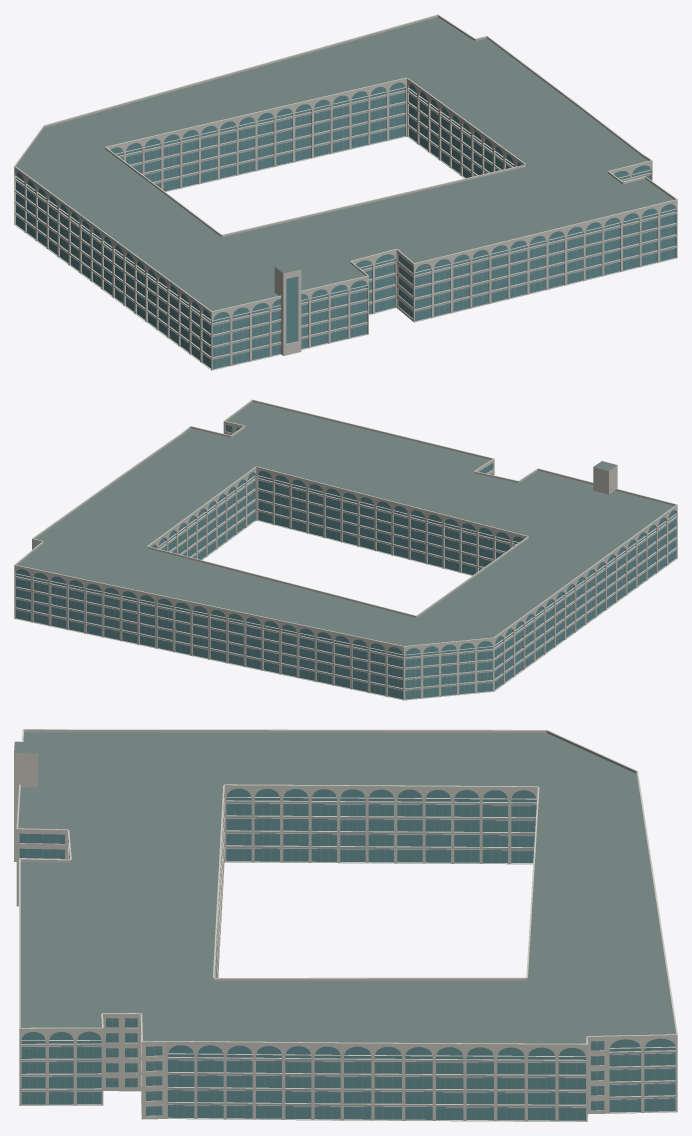
3 views of the same model, one above another, from view 1: azimuth 30°, elevation 25°; view 2: azimuth 150°, elevation 25°; view 3: azimuth 270°, elevation 25° (orthographic). The views are drawn at different scales.
Visible parts, largest first — view 1: five__roof, five__glass, five__wall, five__wall2, five__frame, five__parapet, five__trim; view 2: five__roof, five__glass, five__wall, five__wall2, five__frame, five__parapet, five__trim; view 3: five__roof, five__glass, five__wall, five__wall2, five__frame, five__parapet, five__trim.
Part boxes in pixels (x1,y1,x2,y2): five__roof: (15,17,676,370); five__glass: (16,82,675,369); five__wall: (14,80,677,370); five__wall2: (15,90,676,359); five__frame: (16,91,675,367); five__parapet: (14,15,677,313); five__trim: (14,14,677,312); five__roof: (15,402,676,700); five__glass: (16,425,675,699); five__wall: (14,423,677,700); five__wall2: (15,478,676,690); five__frame: (16,426,675,698); five__parapet: (14,400,677,648); five__trim: (14,399,677,646); five__roof: (14,732,675,1121); five__glass: (19,788,675,1120); five__wall: (14,743,677,1121); five__wall2: (21,801,675,1121); five__frame: (22,798,675,1120); five__parapet: (16,729,677,1046); five__trim: (16,729,677,1044).
Size of the model in its own units: 163 by 26.22 by 145.
